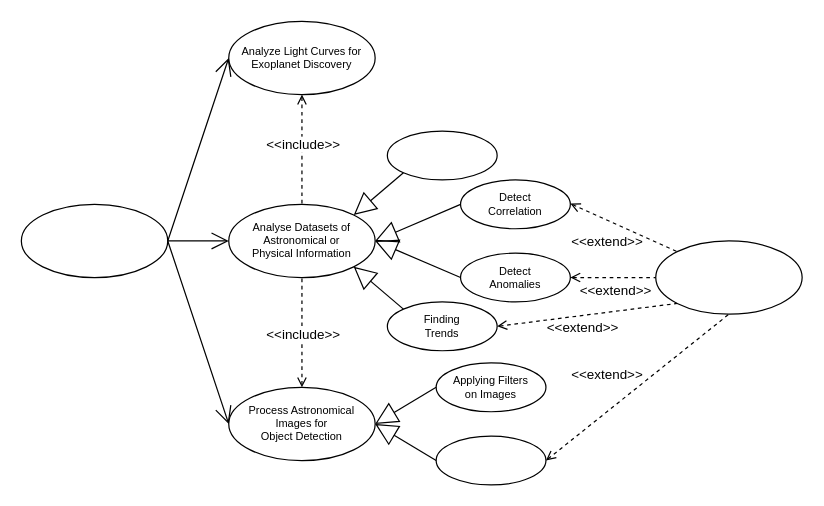
Image size: 824x506. Some labels were removed from this diagram. Here are the shapes that lost their labels. From the top down, the centre of each, then its label:
At [441,155]: "Statistical Analysis".
At [94,240]: "Include Module : Data Analyzing".
At [728,277]: "Apply Machine Learning Methods for Data Pattern Recognition".
At [490,460]: "Object Detection".
